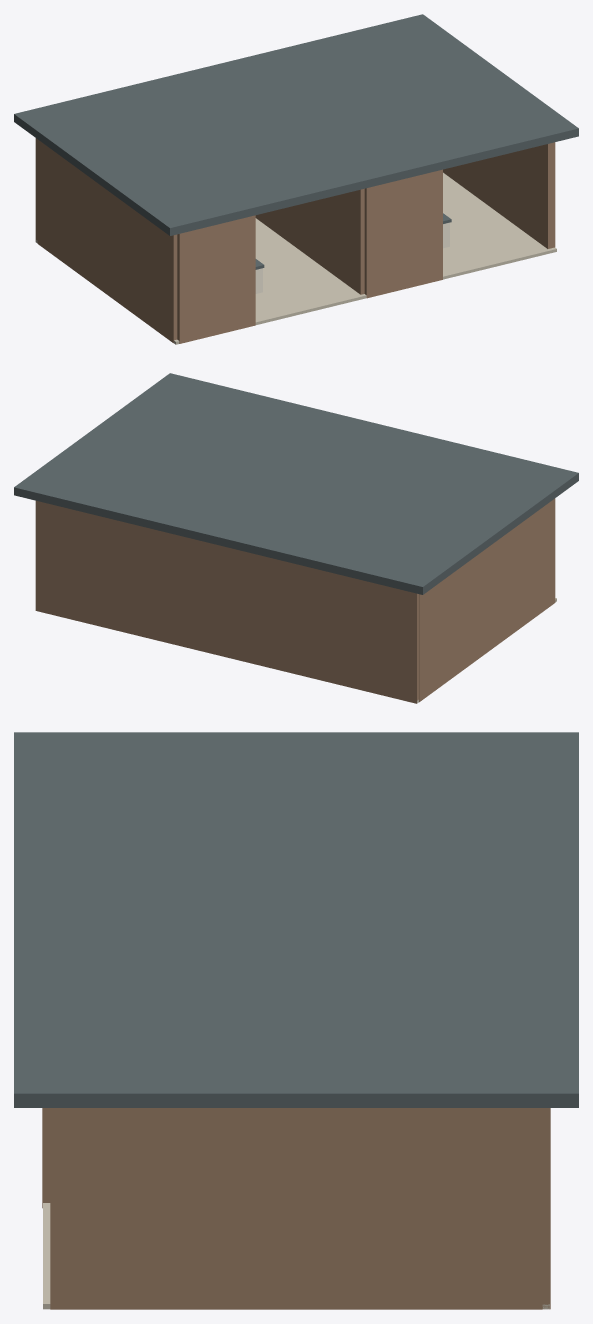
3 views of the same model, one above another, from view 1: azimuth 30°, elevation 25°; view 2: azimuth 150°, elevation 25°; view 3: azimuth 270°, elevation 25° (orthographic). The views are drawn at different scales.
Parts seen in each view (by area): view 1: restroom-roof, 공원 화장실; view 2: restroom-roof, 공원 화장실; view 3: restroom-roof, 공원 화장실.
Boxes of the visible parts, bbox=[...] form: restroom-roof: bbox=[14, 14, 578, 235]; 공원 화장실: bbox=[35, 138, 556, 344]; restroom-roof: bbox=[14, 373, 578, 594]; 공원 화장실: bbox=[35, 498, 556, 703]; restroom-roof: bbox=[14, 732, 578, 1107]; 공원 화장실: bbox=[42, 1108, 550, 1309].
Size of the model in its own units: 11.8 by 3.47 by 7.8.
